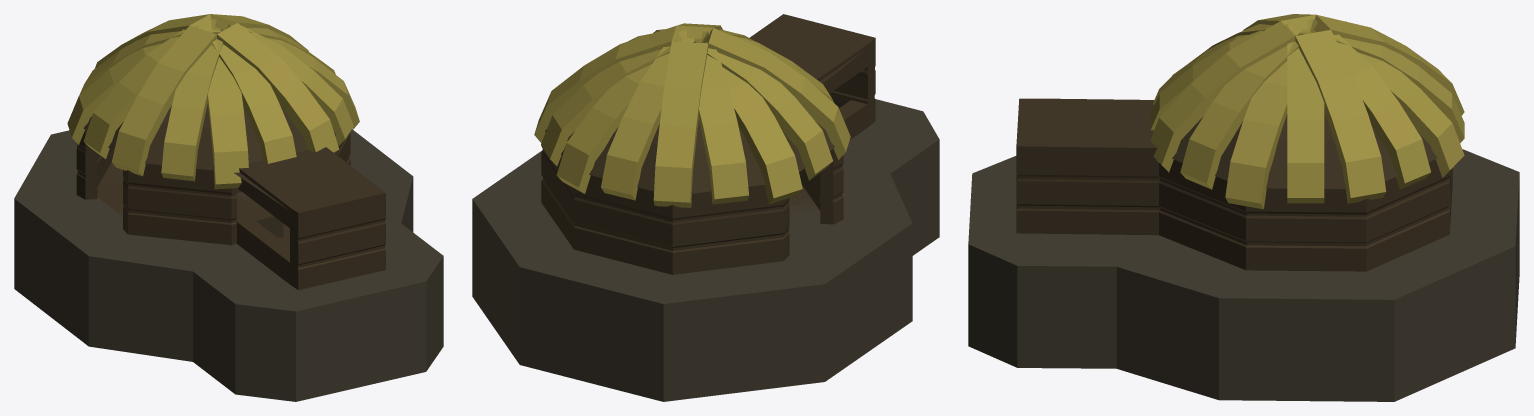
File: shop hut.obj
3 renders of one model, left to right at view 1: azimuth 30°, elevation 25°; view 2: azimuth 150°, elevation 25°; view 3: azimuth 270°, elevation 25°, orthographic. The views are drawn at different scales.
Parts seen in each view (by area): view 1: Plane, Plane.001, Cube.005_Cube.007, Cube.003_Cube.011, Cube.002_Cube.010, Cube.001_Cube.003; view 2: Plane, Plane.001, Cube.005_Cube.007, Cube.002_Cube.010, Cube.003_Cube.011, Cube.001_Cube.003; view 3: Plane, Plane.001, Cube.005_Cube.007, Cube.003_Cube.011, Cube.001_Cube.003, Cube.002_Cube.010.
Boxes of the visible parts, x1,y1,x2,y2 form: Plane: [14, 129, 443, 401]; Plane.001: [76, 103, 385, 290]; Cube.005_Cube.007: [94, 14, 339, 176]; Cube.003_Cube.011: [79, 18, 353, 181]; Cube.002_Cube.010: [83, 19, 335, 163]; Cube.001_Cube.003: [67, 30, 359, 189]; Plane: [472, 99, 939, 401]; Plane.001: [541, 14, 875, 274]; Cube.005_Cube.007: [534, 23, 850, 207]; Cube.002_Cube.010: [601, 29, 832, 200]; Cube.003_Cube.011: [541, 29, 833, 204]; Cube.001_Cube.003: [556, 38, 802, 204]; Plane: [968, 149, 1519, 401]; Plane.001: [1016, 35, 1452, 271]; Cube.005_Cube.007: [1150, 14, 1464, 203]; Cube.003_Cube.011: [1180, 19, 1430, 189]; Cube.001_Cube.003: [1153, 32, 1464, 209]; Cube.002_Cube.010: [1150, 20, 1464, 203].
Bounding box in the file's own units: 39.6 × 29.25 × 51.05.
